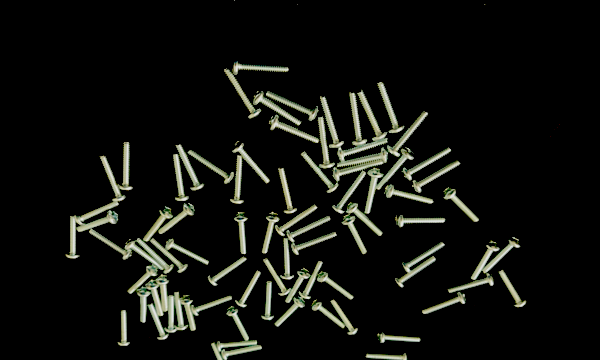longscrew: (224, 67, 264, 121), (386, 110, 430, 158), (252, 89, 303, 128), (188, 147, 236, 186), (401, 146, 453, 182), (265, 89, 320, 123), (375, 147, 417, 191), (231, 140, 271, 185), (411, 159, 462, 194), (356, 89, 389, 142), (300, 151, 340, 194), (331, 170, 368, 216), (268, 114, 321, 146), (399, 240, 447, 274), (175, 142, 207, 193), (376, 81, 406, 134), (274, 203, 319, 238), (98, 153, 129, 203), (89, 228, 134, 262), (482, 237, 523, 274), (319, 95, 347, 149), (393, 255, 437, 289), (442, 186, 481, 224), (136, 237, 175, 275), (150, 238, 191, 274), (345, 201, 384, 238), (124, 238, 165, 272), (285, 214, 333, 243), (165, 237, 211, 267), (207, 254, 248, 287), (470, 239, 502, 281), (331, 159, 386, 183), (291, 230, 339, 257), (158, 203, 197, 236), (336, 138, 389, 162), (232, 55, 291, 76), (262, 256, 292, 297), (275, 166, 300, 215), (142, 206, 175, 243), (347, 91, 369, 146), (329, 297, 360, 336), (498, 269, 528, 309), (298, 258, 325, 302), (317, 270, 355, 301), (74, 201, 121, 226), (384, 183, 435, 206), (235, 268, 263, 309), (337, 147, 389, 169), (342, 214, 369, 256), (274, 296, 307, 329), (126, 264, 160, 296), (311, 299, 346, 330), (421, 292, 468, 315), (317, 116, 337, 170), (446, 273, 495, 295), (363, 167, 385, 215), (116, 140, 136, 192), (190, 294, 234, 317), (172, 153, 192, 203), (285, 267, 312, 304), (77, 210, 120, 233), (229, 154, 248, 205), (260, 211, 281, 255), (226, 306, 251, 342), (395, 212, 447, 229), (148, 302, 170, 342), (65, 215, 82, 261), (145, 280, 165, 318), (221, 343, 264, 360), (377, 330, 422, 346), (280, 237, 296, 281), (180, 294, 198, 332), (173, 291, 189, 333), (116, 307, 132, 348), (233, 212, 248, 255), (216, 338, 259, 353), (262, 280, 276, 322), (164, 294, 178, 335), (136, 287, 151, 325), (156, 275, 171, 313), (209, 341, 233, 360), (365, 351, 409, 360)
